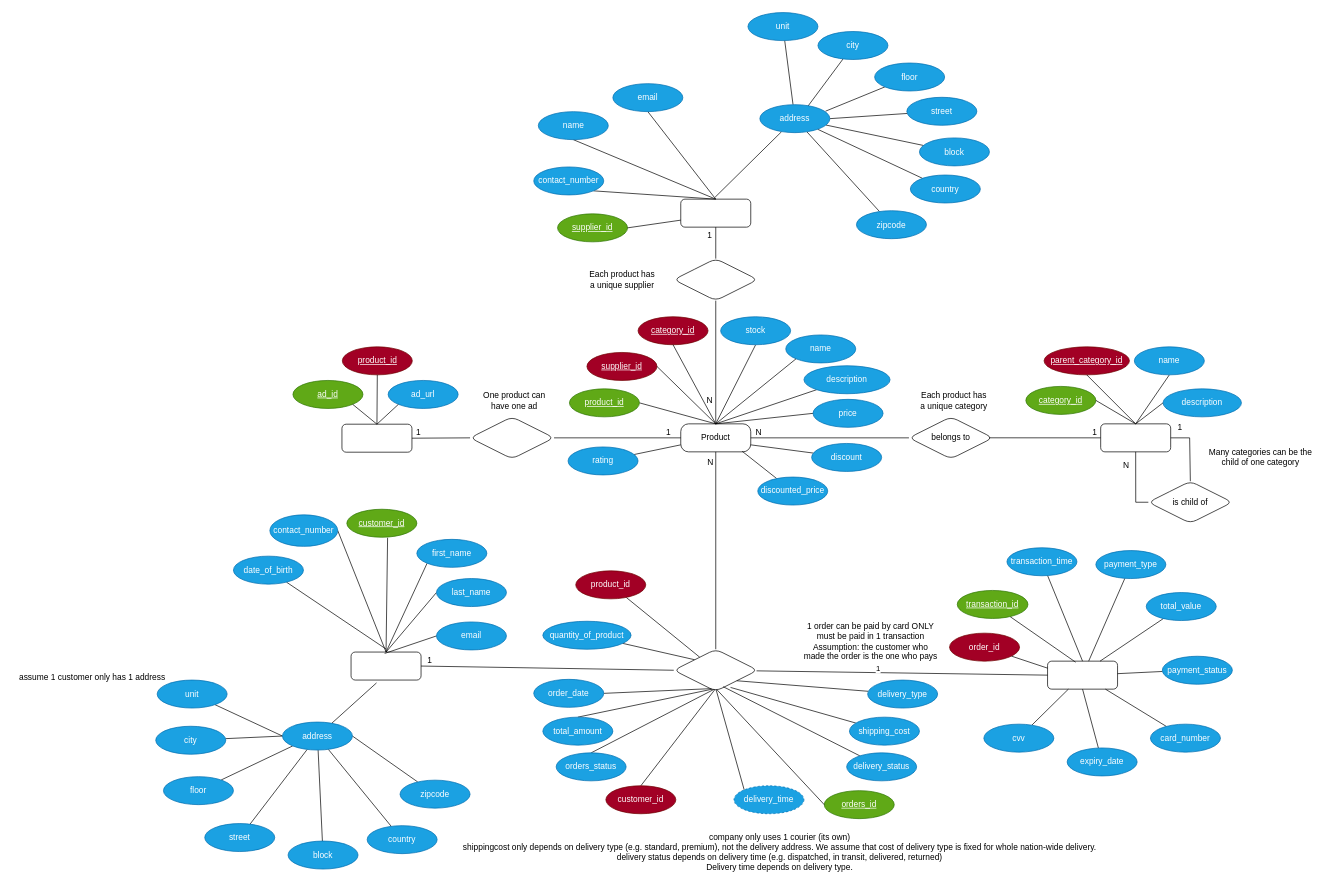
Some shapes in this 1328 by 888 pixel diagram are drawn without their labels. Each missing label, with the centre of its shape:
"Ad" belongs at (x=376, y=438).
"Category" belongs at (x=1135, y=437).
"Customer" belongs at (x=385, y=665).
"has" belongs at (x=511, y=437).
"Order" belongs at (x=715, y=670).
"supplied by" belongs at (x=715, y=279).
"Supplier" belongs at (x=715, y=212).
"Transaction" belongs at (x=1082, y=674).
